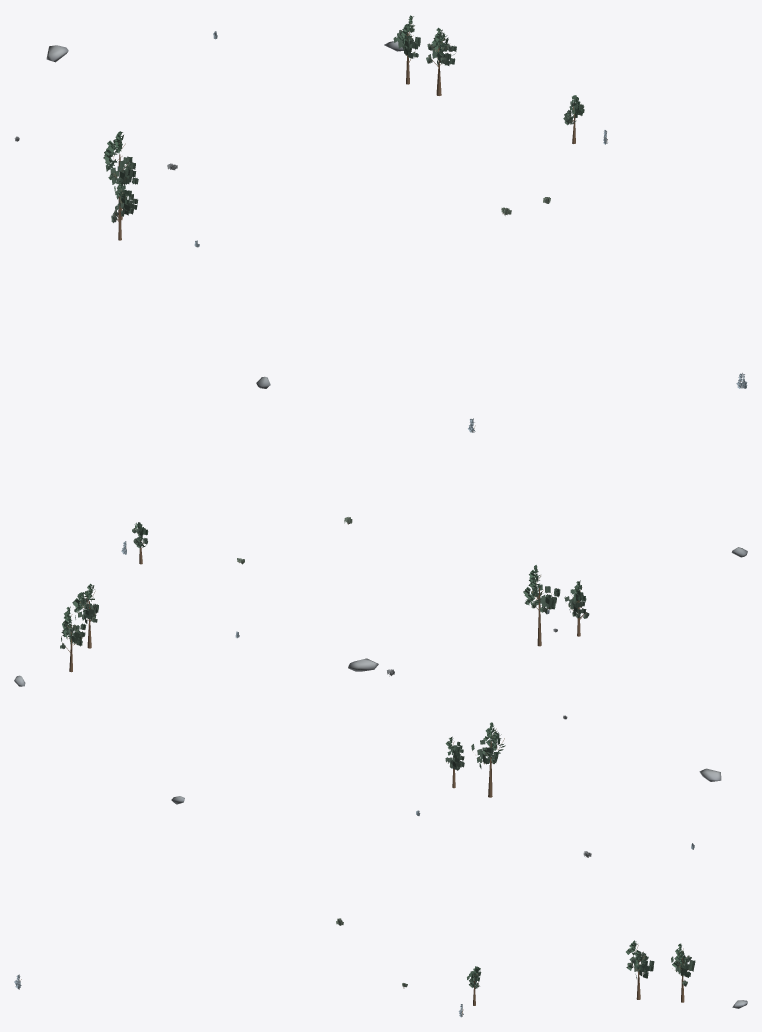
Rendered from frost_land_scatter_c25_10.glb.
3 views of the same model, one above another, from view 1: azimuth 30°, elevation 25°; view 2: azimuth 150°, elevation 25°; view 3: azimuth 270°, elevation 25° (orthographic). The views are drawn at different scales.
Visible parts, largest first — view 1: frost_land_scatter_c25_10; view 2: frost_land_scatter_c25_10; view 3: frost_land_scatter_c25_10.
Part boxes in pixels (box(x1,y1,x2,y2)): frost_land_scatter_c25_10: box(14, 15, 747, 388); frost_land_scatter_c25_10: box(14, 418, 747, 686); frost_land_scatter_c25_10: box(14, 715, 747, 1017).
Size of the model in its own units: 95.01 by 23.98 by 131.
